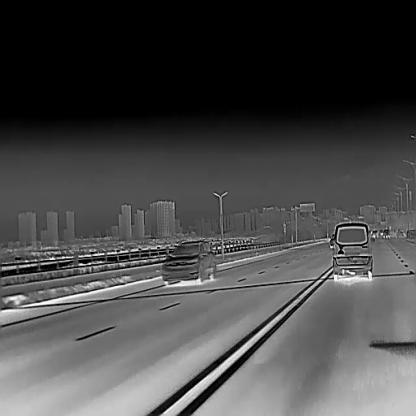car: (328, 220, 374, 283), (160, 239, 215, 283), (383, 230, 390, 239), (372, 229, 378, 238)
